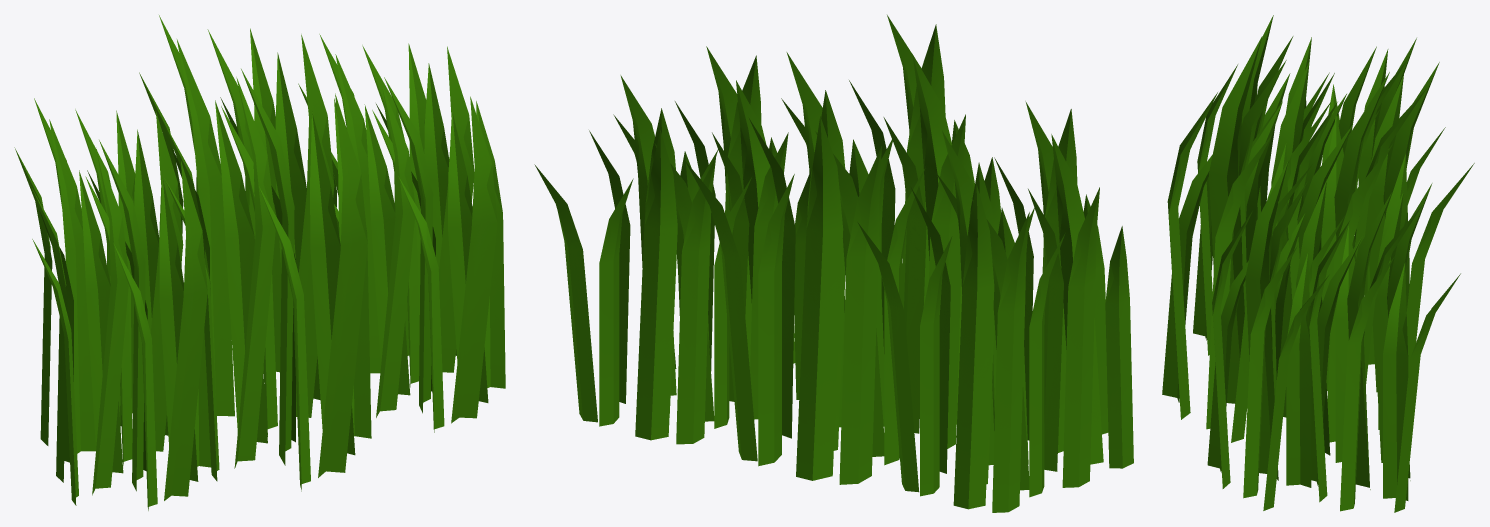
Rendered from grass_2.fbx.
3 views of the same model, side by side, from view 1: azimuth 30°, elevation 25°; view 2: azimuth 150°, elevation 25°; view 3: azimuth 270°, elevation 25° (orthographic). The views are drawn at different scales.
Visible parts, largest first — view 1: grass_2; view 2: grass_2; view 3: grass_2.
Boxes of the visible parts, <box> form: grass_2: <box>14,15,505,510</box>; grass_2: <box>534,15,1133,512</box>; grass_2: <box>1162,15,1474,512</box>.
Bounding box in the file's own units: 77.92 × 61.5 × 48.91.
